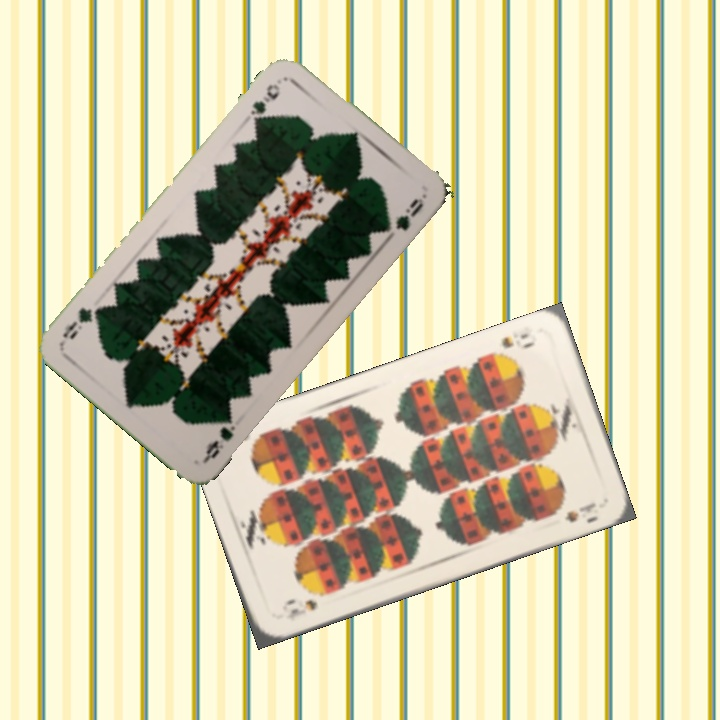G9: (199, 409, 239, 465), (246, 79, 283, 127)
S10: (282, 595, 320, 624), (497, 329, 537, 352)
